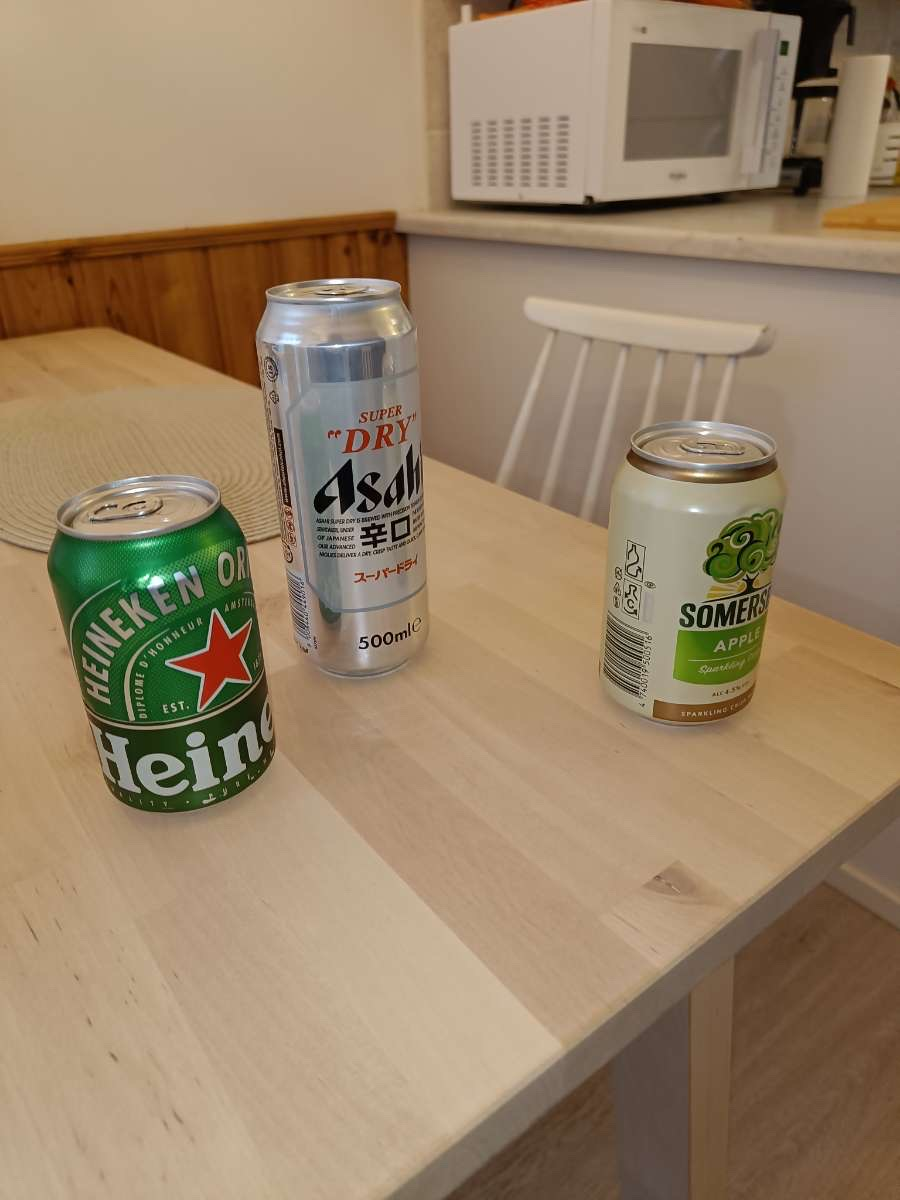Pantburk: (25, 478, 322, 830), (238, 268, 463, 680), (598, 406, 798, 729)
